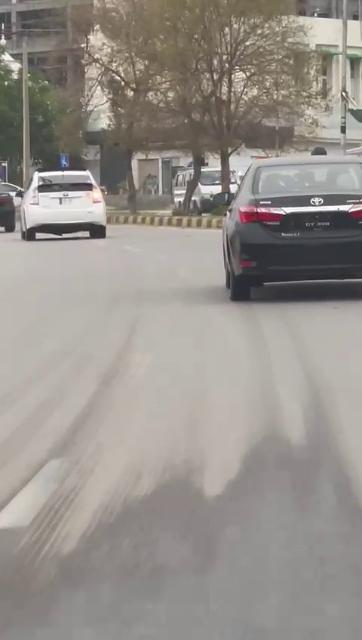plate: (300, 218, 336, 230)
